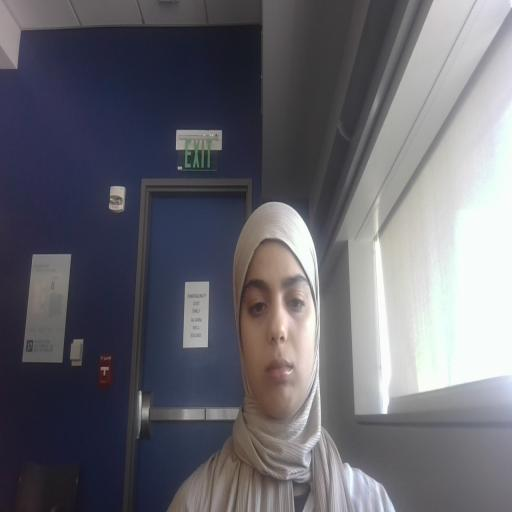lookingdownatphone: (239, 241, 316, 420)
